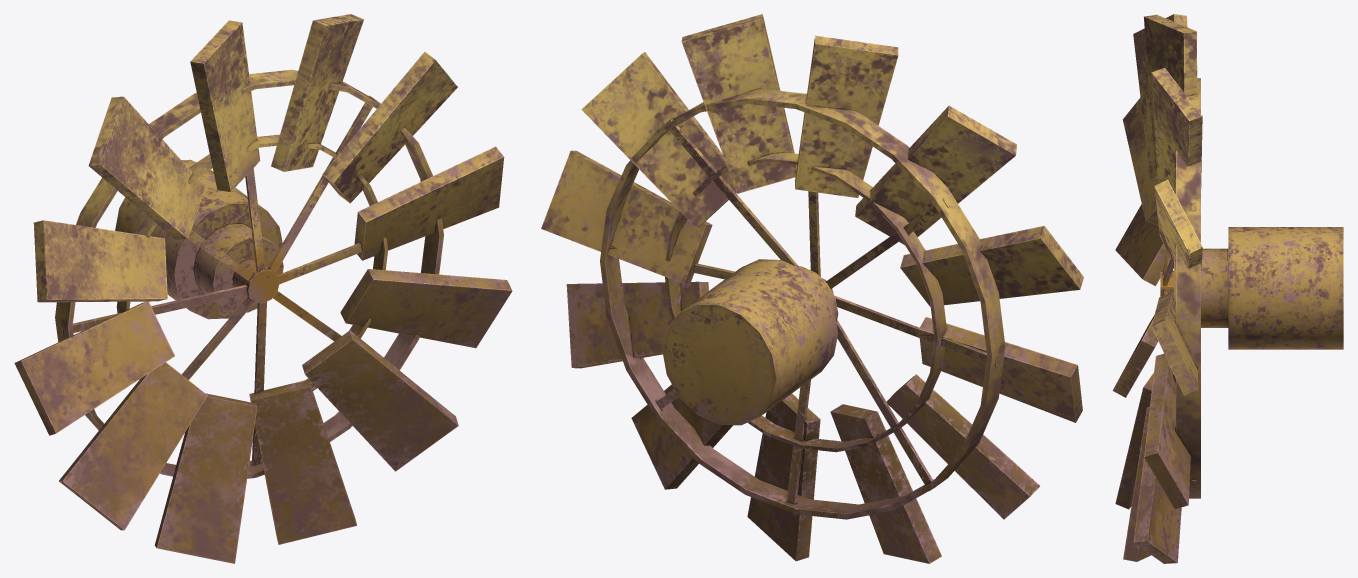
Rendered from Windmill_wings.fbx.
The picture shows the model from 3 angles, left to right: view 1: azimuth 30°, elevation 25°; view 2: azimuth 150°, elevation 25°; view 3: azimuth 270°, elevation 25°; orthographic projection. The views are drawn at different scales.
Visible parts, largest first — view 1: Plane.016; view 2: Plane.016; view 3: Plane.016.
Part boxes in pixels (<box>): Plane.016: <box>14,14,512,563</box>; Plane.016: <box>541,14,1083,563</box>; Plane.016: <box>1112,14,1343,563</box>.
Size of the model in its own units: 6.97 by 6.97 by 2.91.
